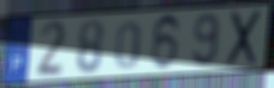0: (113, 19, 145, 70)
2: (35, 19, 69, 80)
6: (150, 12, 185, 74)
8: (75, 17, 106, 76)
9: (191, 11, 222, 69)
X: (224, 8, 264, 69)
